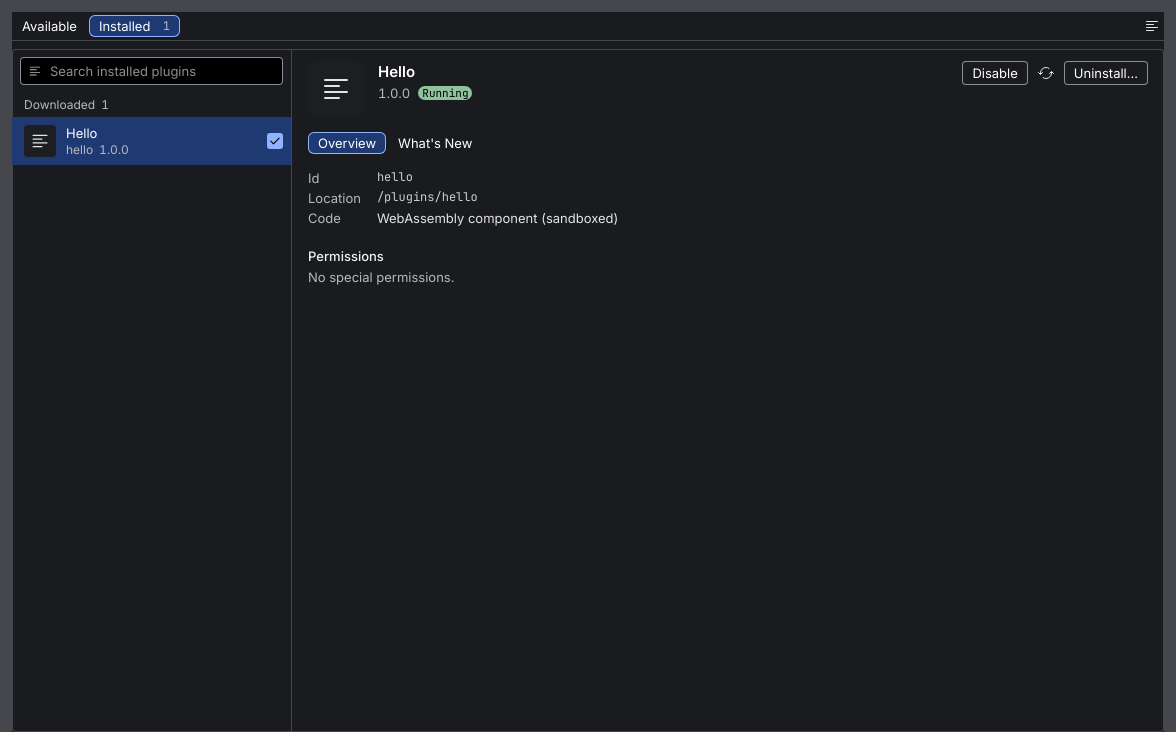
Scenario: PluginsPage › shows What's New from the change notes
Expected: the heading "Hello" is shown, [378,62,415,81]
Expected: the text "Added word count." is not shown
Click the tab "What's New": (435, 143) [388,132,482,154]
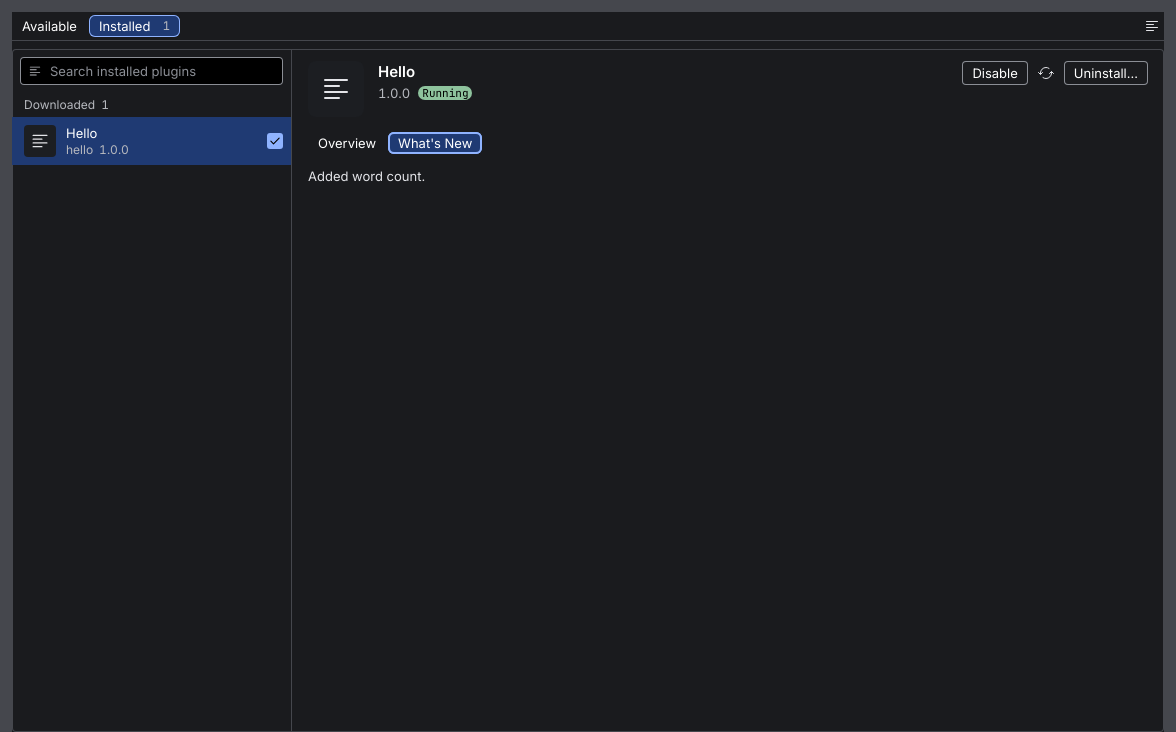
Expected: the text "Added word count." is shown, [308,168,425,184]
